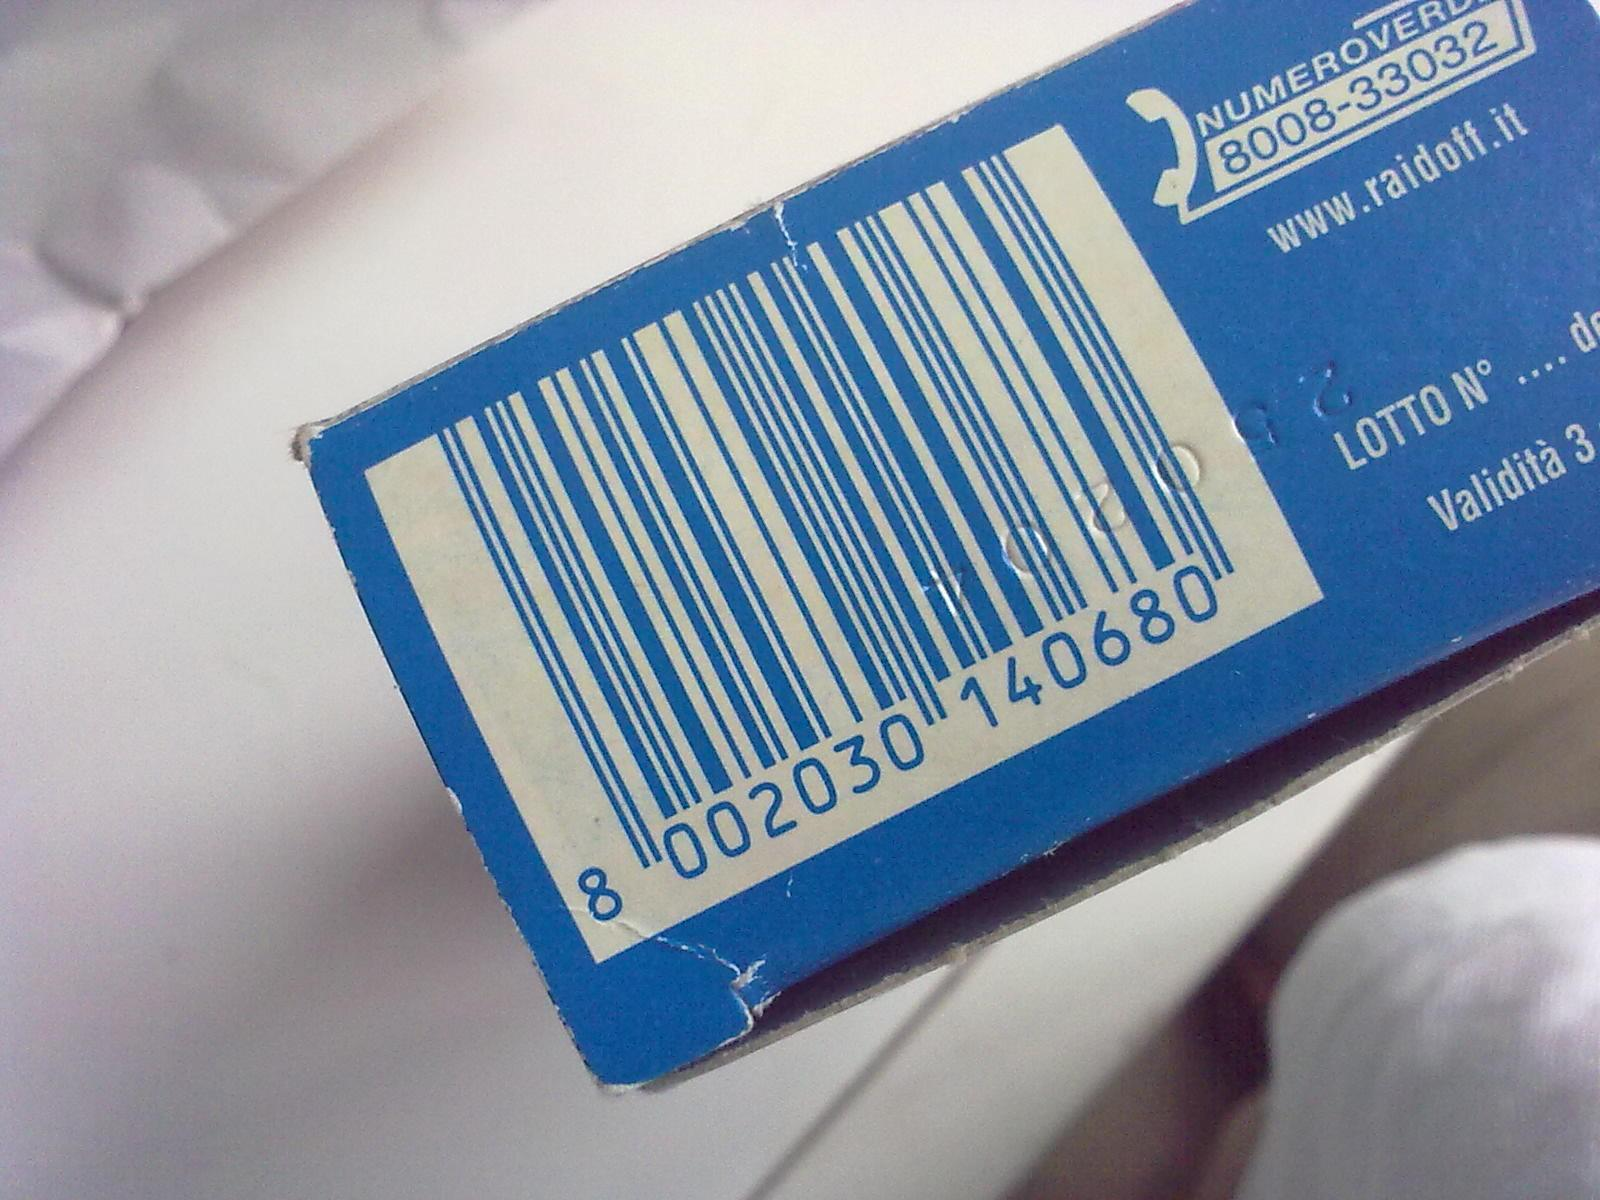barcode: (362, 120, 1330, 963)
